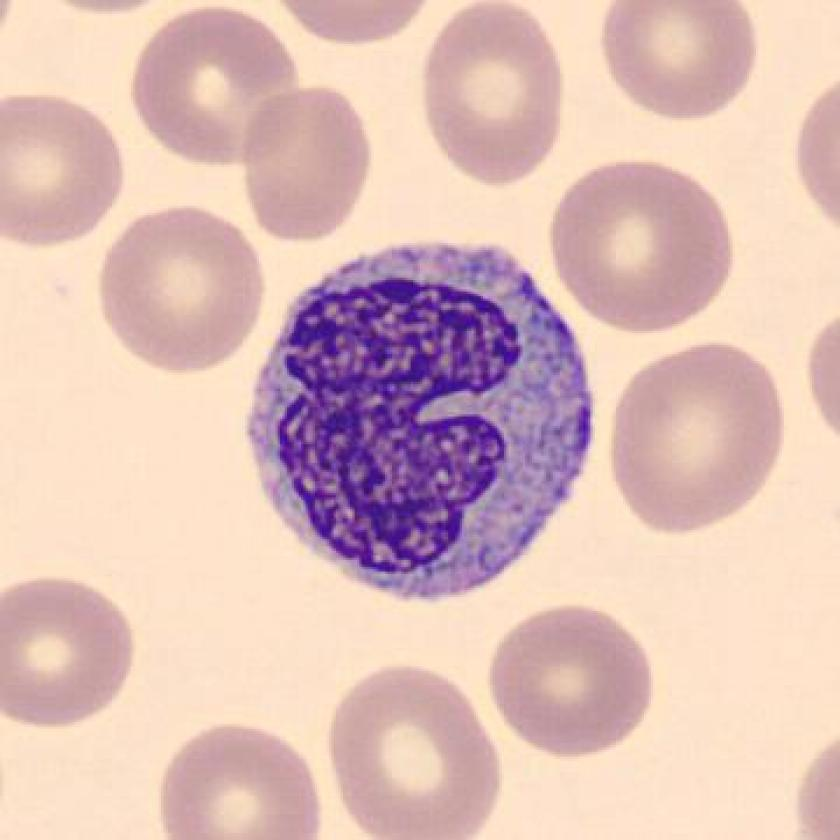monocyte: (230, 226, 612, 617)
